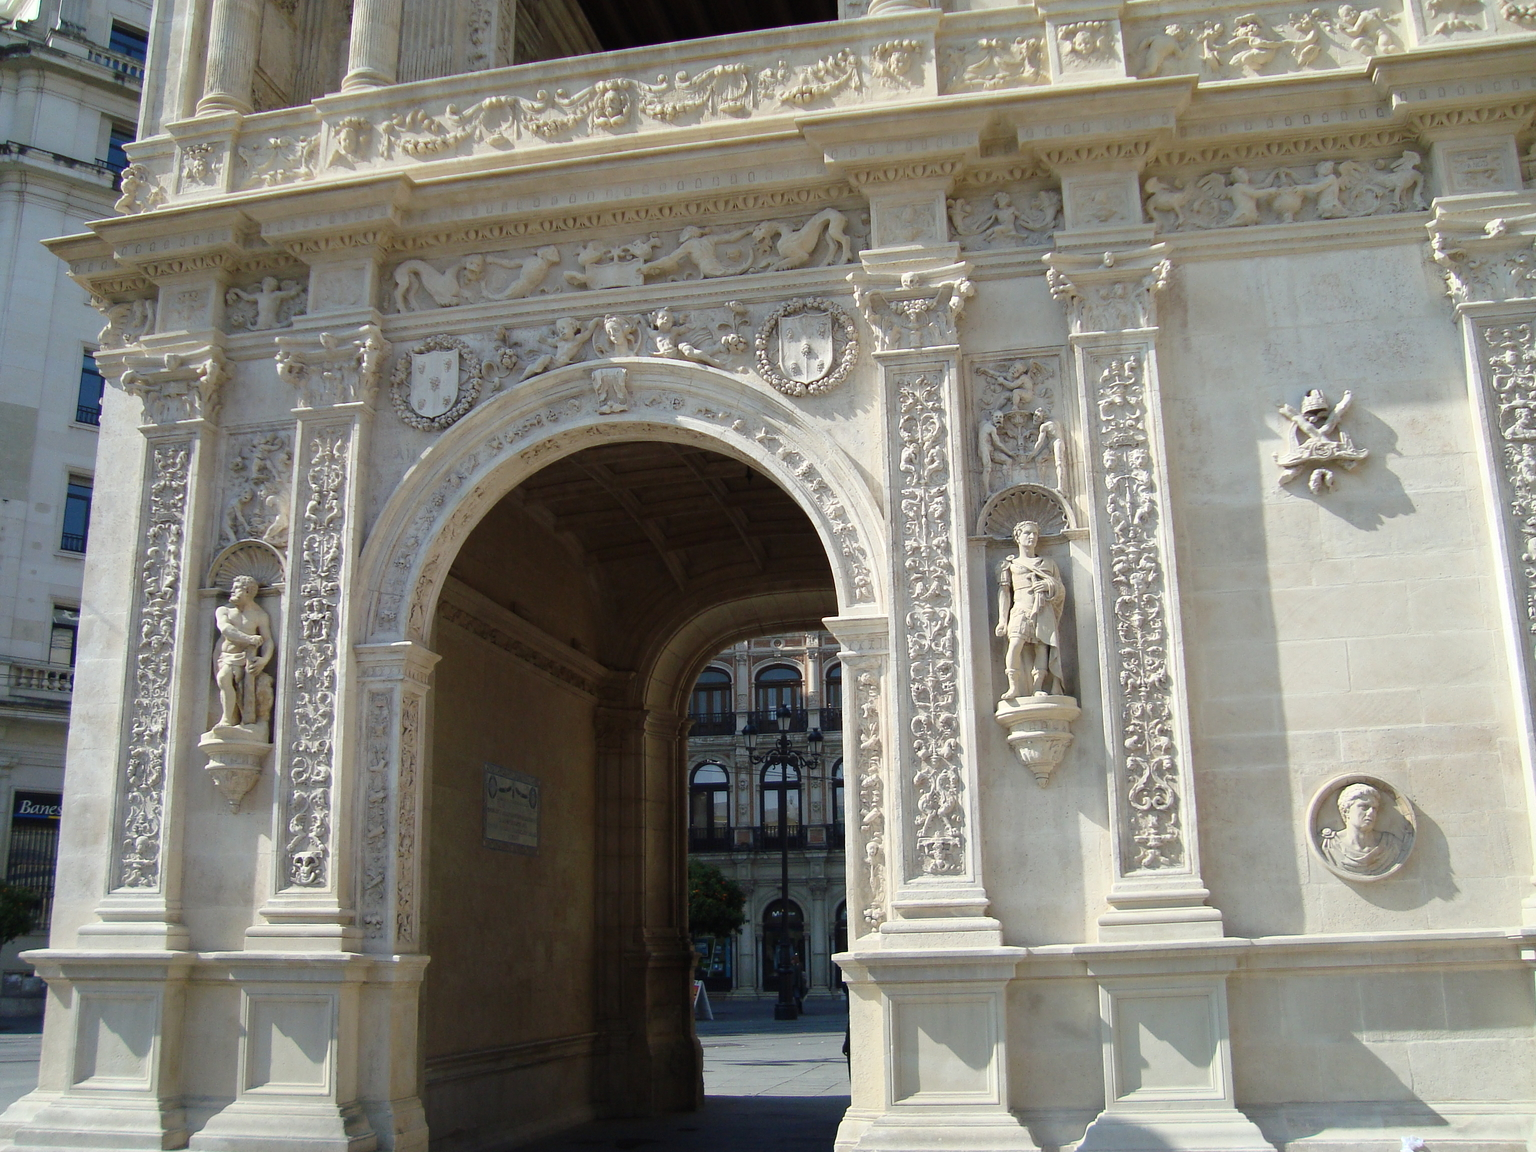arco-medio-punto: (339, 338, 900, 695)
